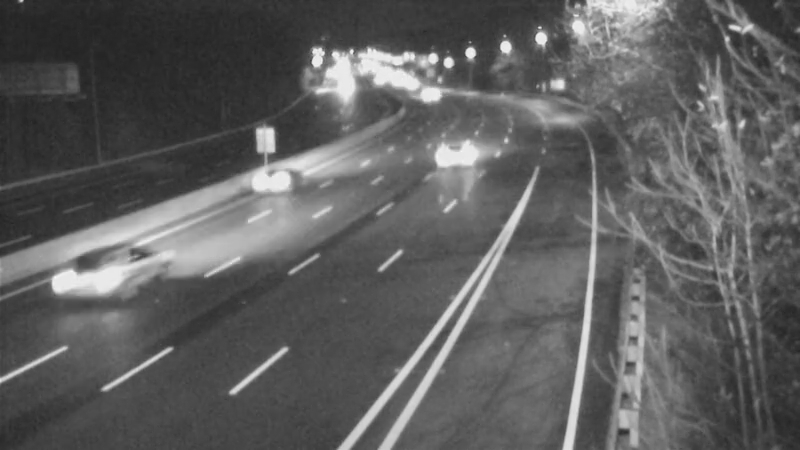vehicle: (243, 137, 323, 217), (54, 242, 134, 322), (404, 66, 454, 116), (431, 123, 481, 173)
